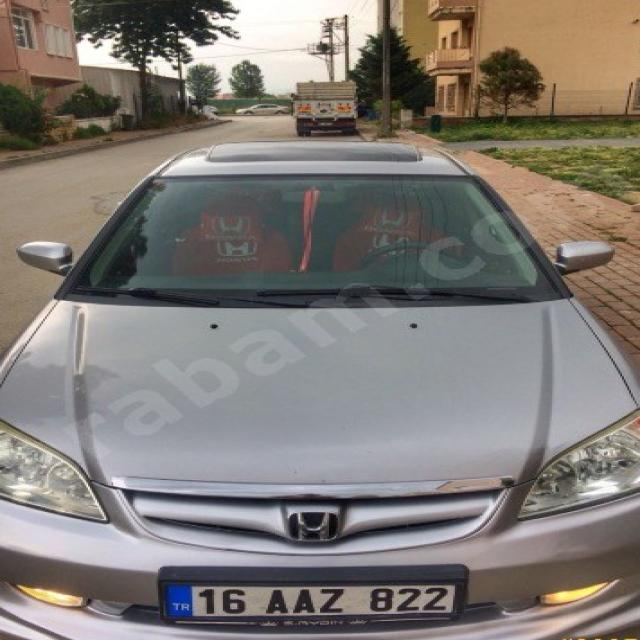license_plate: (161, 583, 457, 618)
